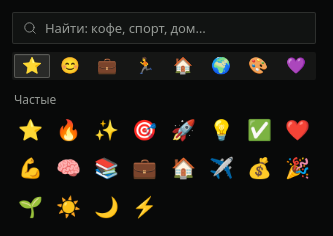
Test case: EmojiPicker › switches categories via tabs
The width and height of the screenshot is (333, 236).
Step 1. Click the tab named "Спорт и здоровье" → (145, 66), box [127,54,163,78]
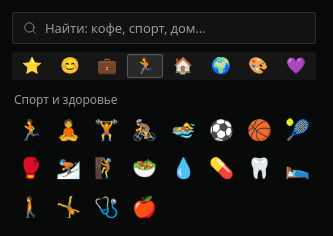
Expected: the button "🧘" is shown, [50,112,87,148]
